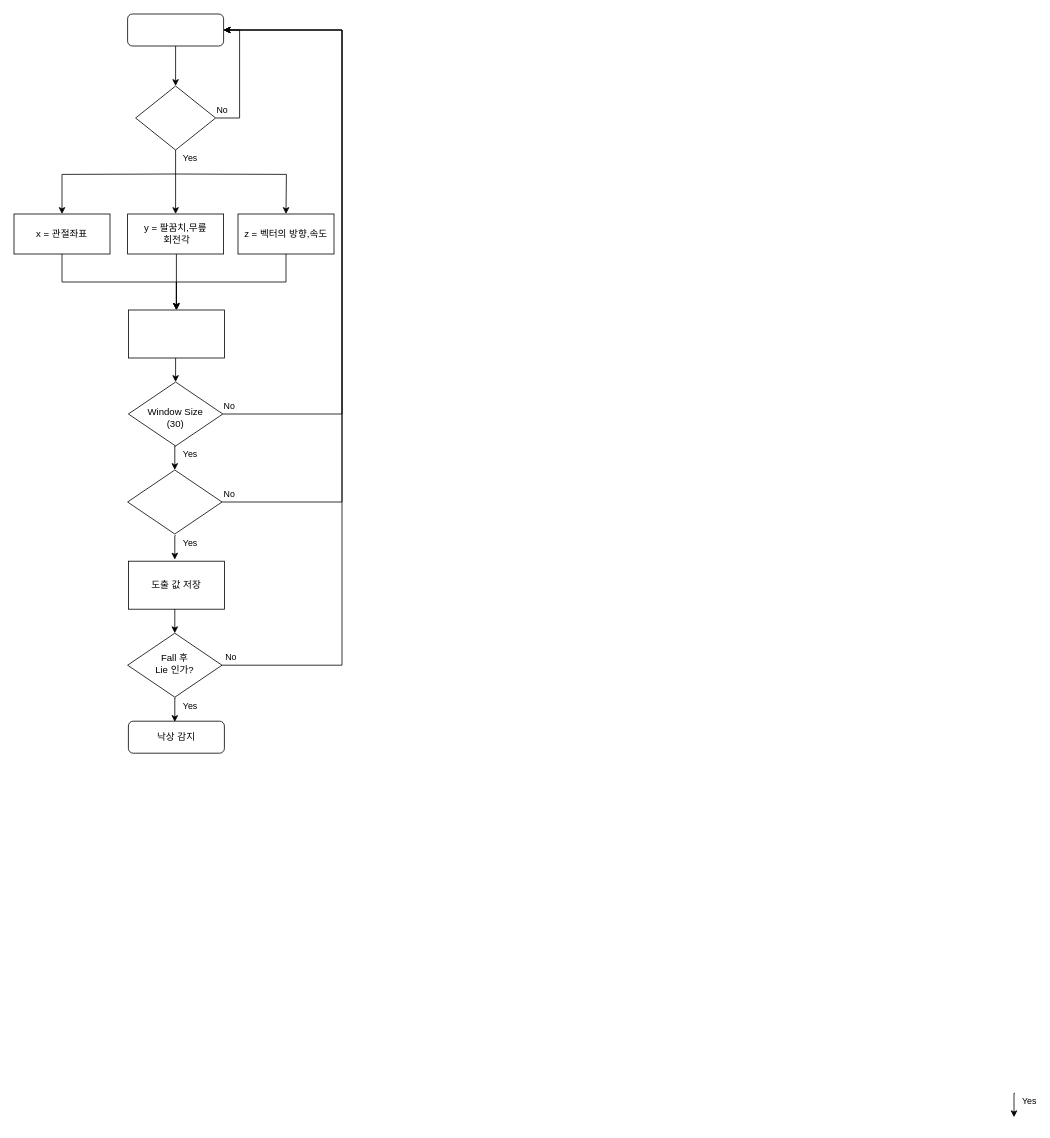
The diagram is 1050 pixels wide and 1138 high, and some of its shapes have lost their labels. The box of each missing label's shape, as (x1, y1, x2, y2) in pixels:
data =[ x,y,z].flatten(): (128, 309, 224, 358)
GRU 모델: (127, 469, 222, 534)
MediaPipe 관절추출: (135, 85, 216, 150)
실시간 영상: (127, 13, 224, 46)
